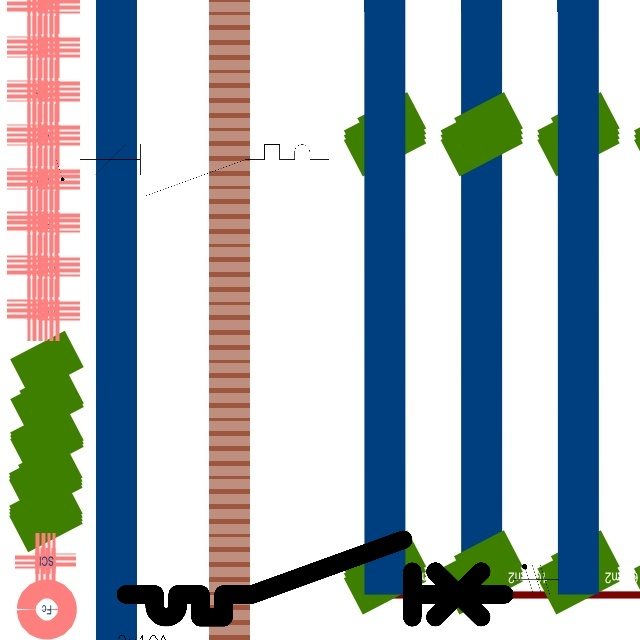interruptor_termomagnetico: (116, 530, 514, 627), (73, 138, 334, 202)
